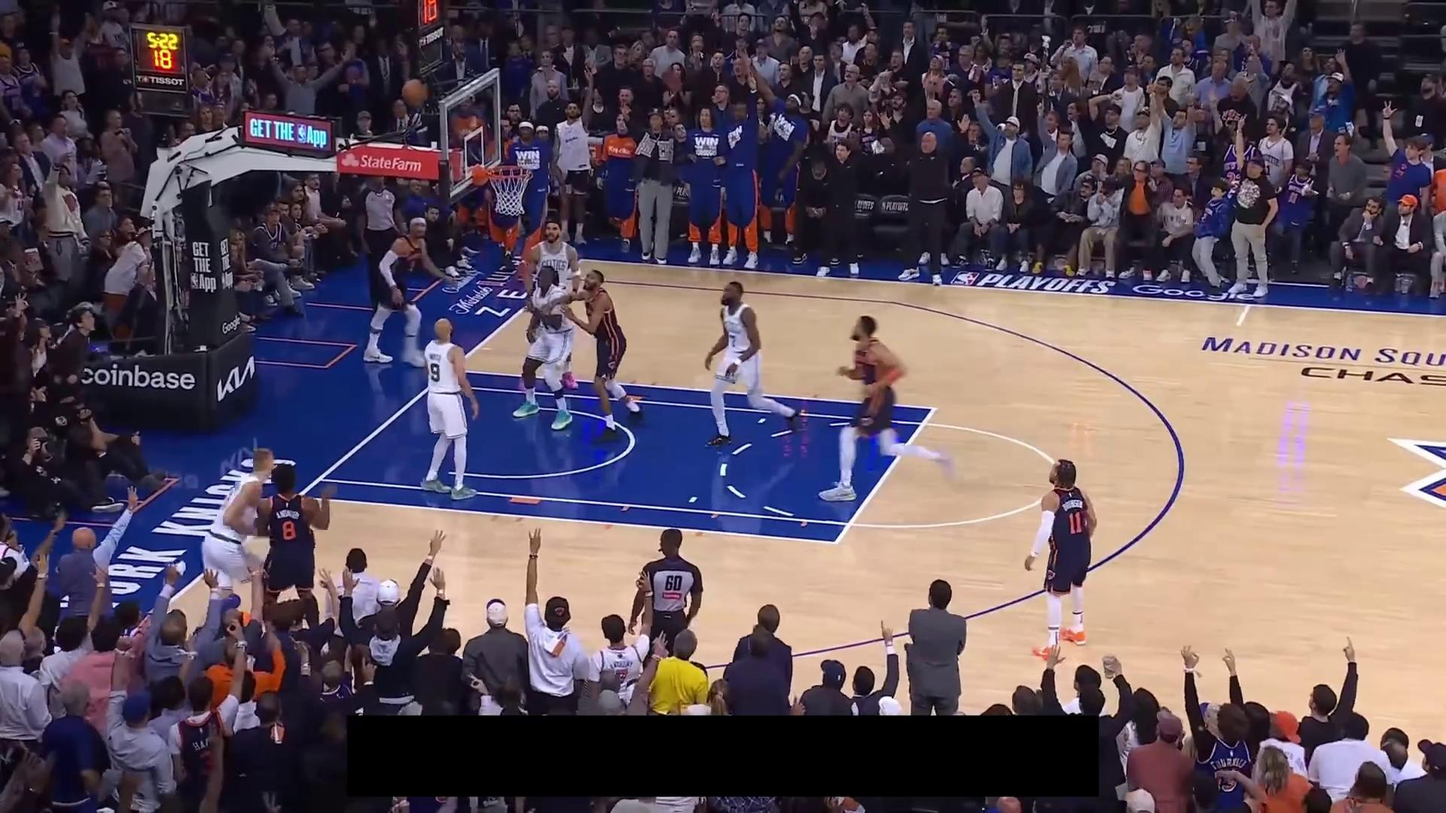ball: (401, 79, 428, 107)
number: (1066, 509, 1084, 538), (281, 519, 298, 542), (428, 361, 443, 385), (729, 333, 737, 348)
player: (819, 309, 956, 505), (533, 267, 646, 444), (193, 446, 296, 620), (700, 277, 799, 452), (1020, 456, 1102, 665), (363, 211, 460, 364), (255, 459, 335, 631), (514, 217, 586, 391), (510, 260, 577, 430), (419, 316, 478, 501)
referee: (624, 524, 707, 654), (354, 175, 410, 305)
rim: (485, 161, 534, 180)
